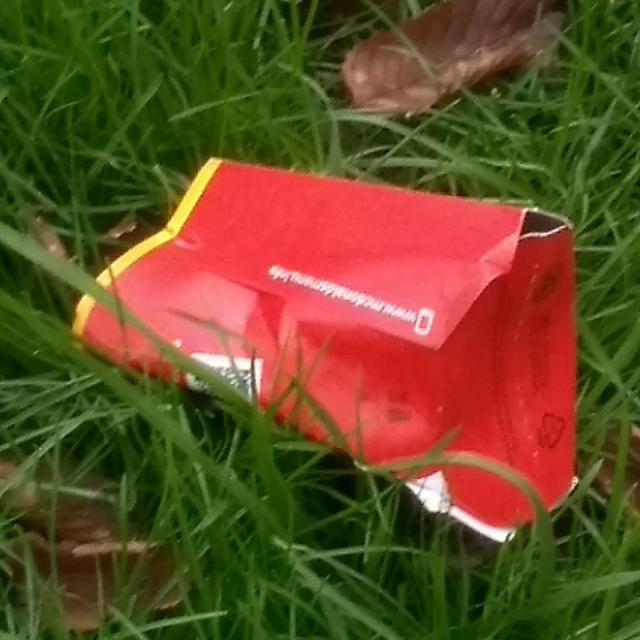Paper: (70, 150, 584, 544)
